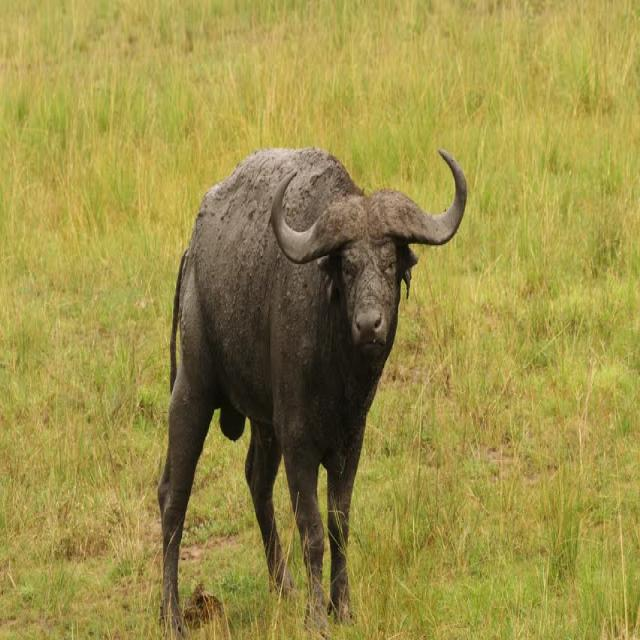buffalo: (149, 142, 464, 636)
